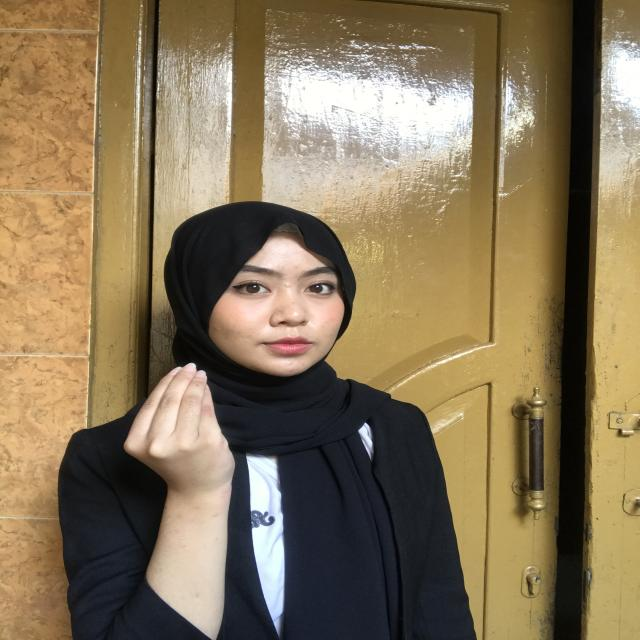kapan: (100, 362, 246, 508)
